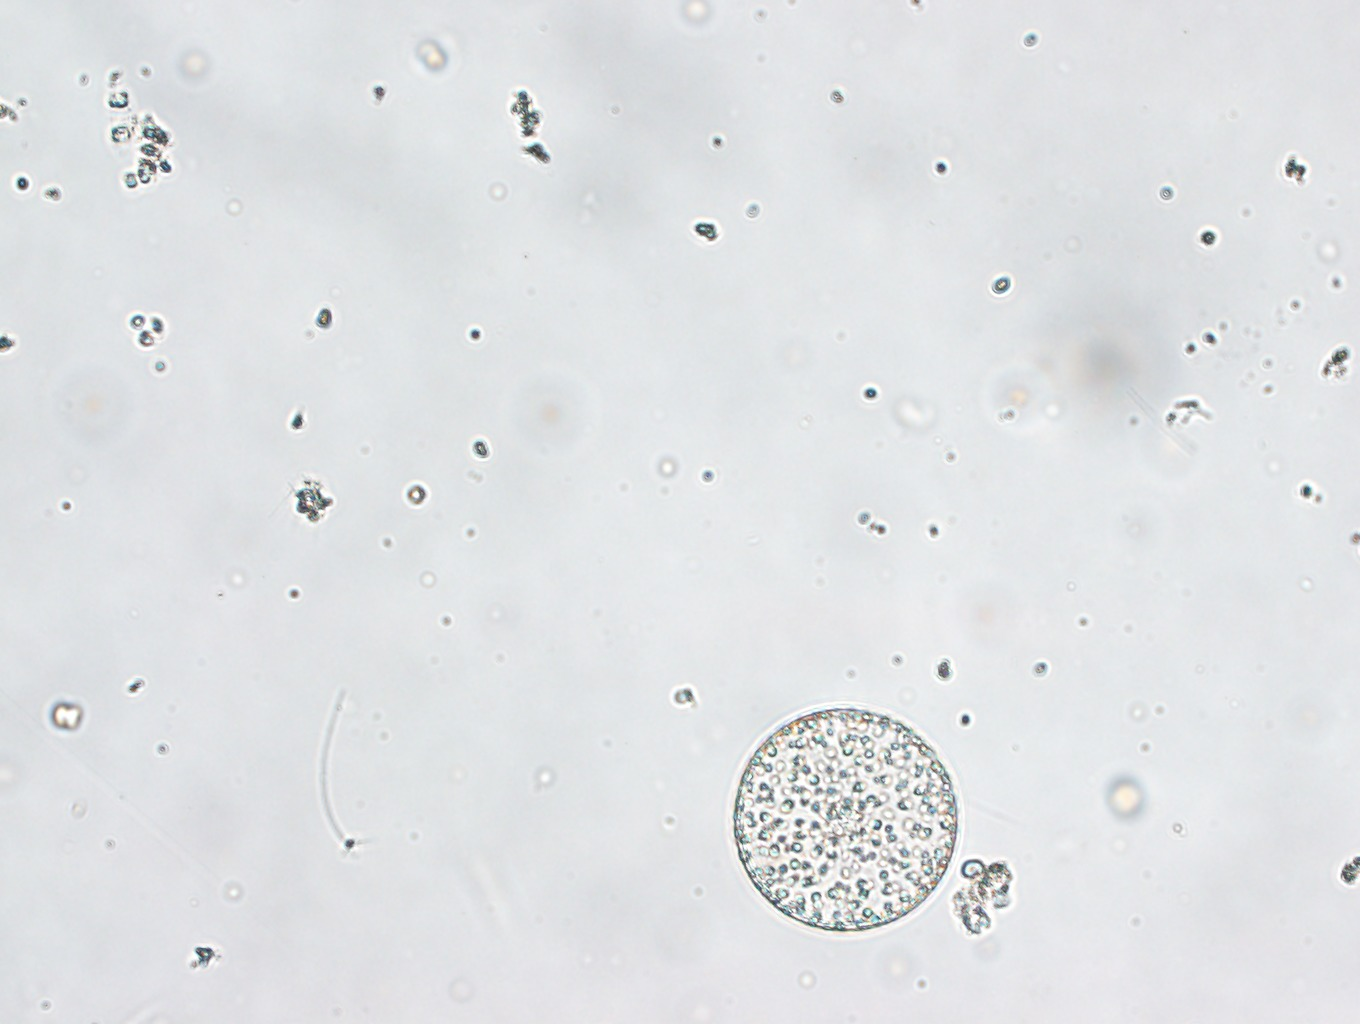coscinodiscus: (722, 700, 965, 938)
